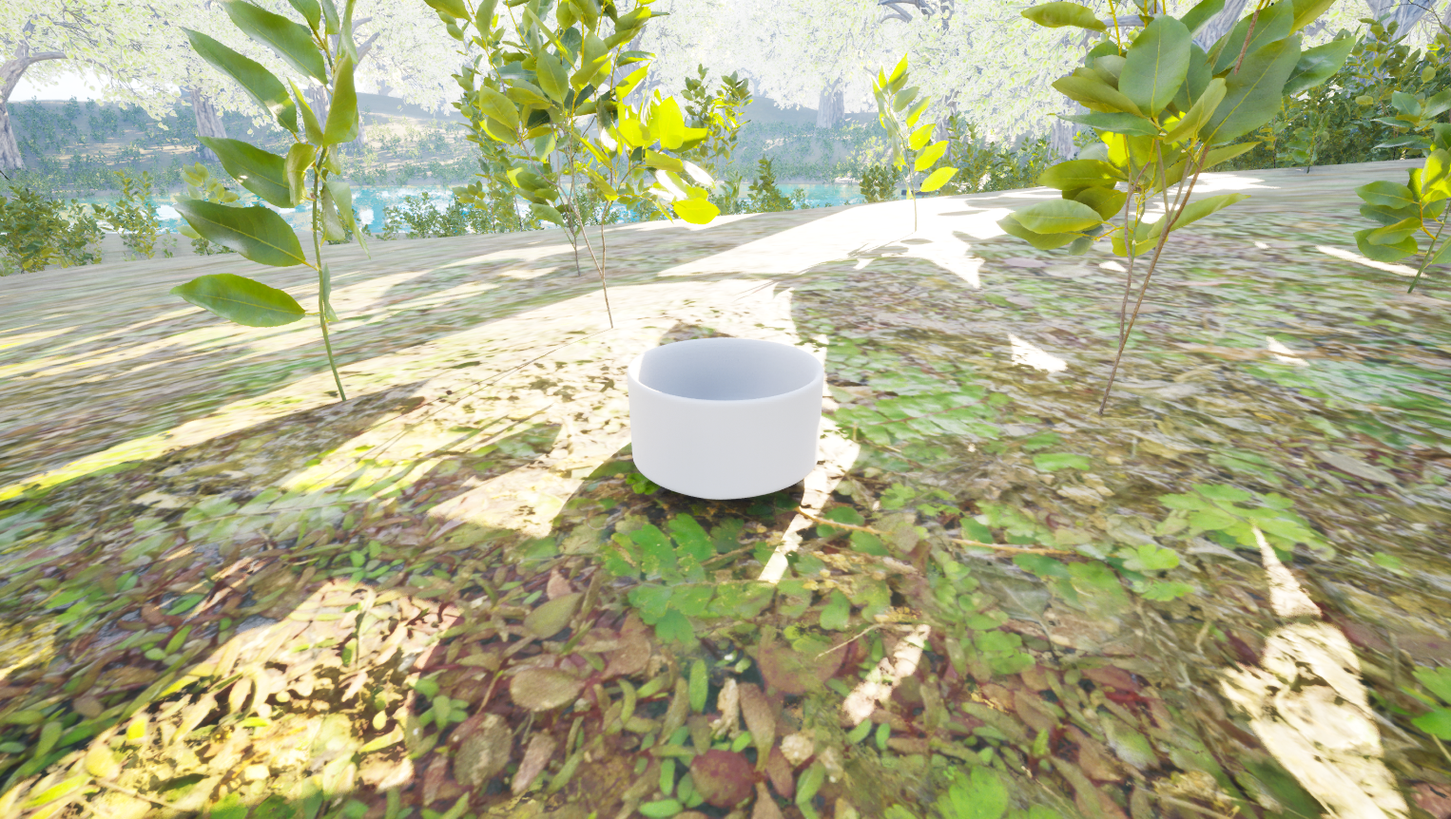Teacup: (599, 327, 825, 509)
